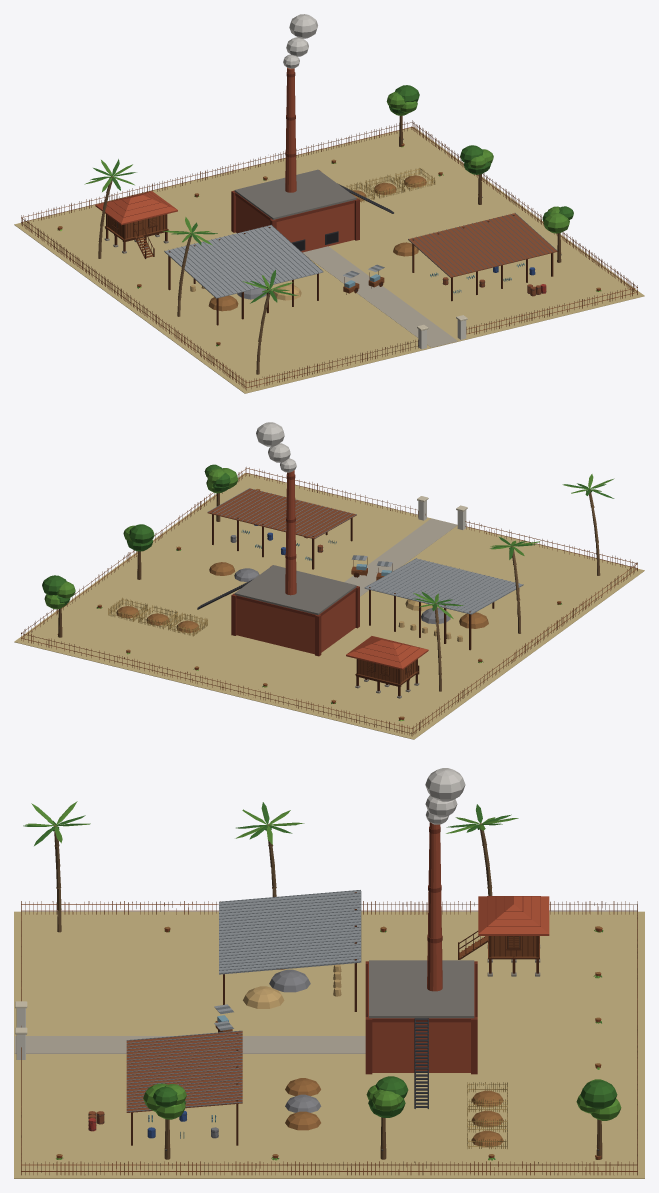
Rendered from waste.glb.
The picture shows the model from 3 angles, top to bottom: view 1: azimuth 30°, elevation 25°; view 2: azimuth 150°, elevation 25°; view 3: azimuth 270°, elevation 25°; orthographic projection. The views are drawn at different scales.
Visible parts, largest first — view 1: body; view 2: body; view 3: body.
Part boxes in pixels (left/top/right/bottom): body: left=14, top=14, right=644, bottom=393; body: left=14, top=422, right=644, bottom=739; body: left=14, top=768, right=644, bottom=1178.
Bounding box in the file's own units: 47.9 × 24.34 × 47.9.
